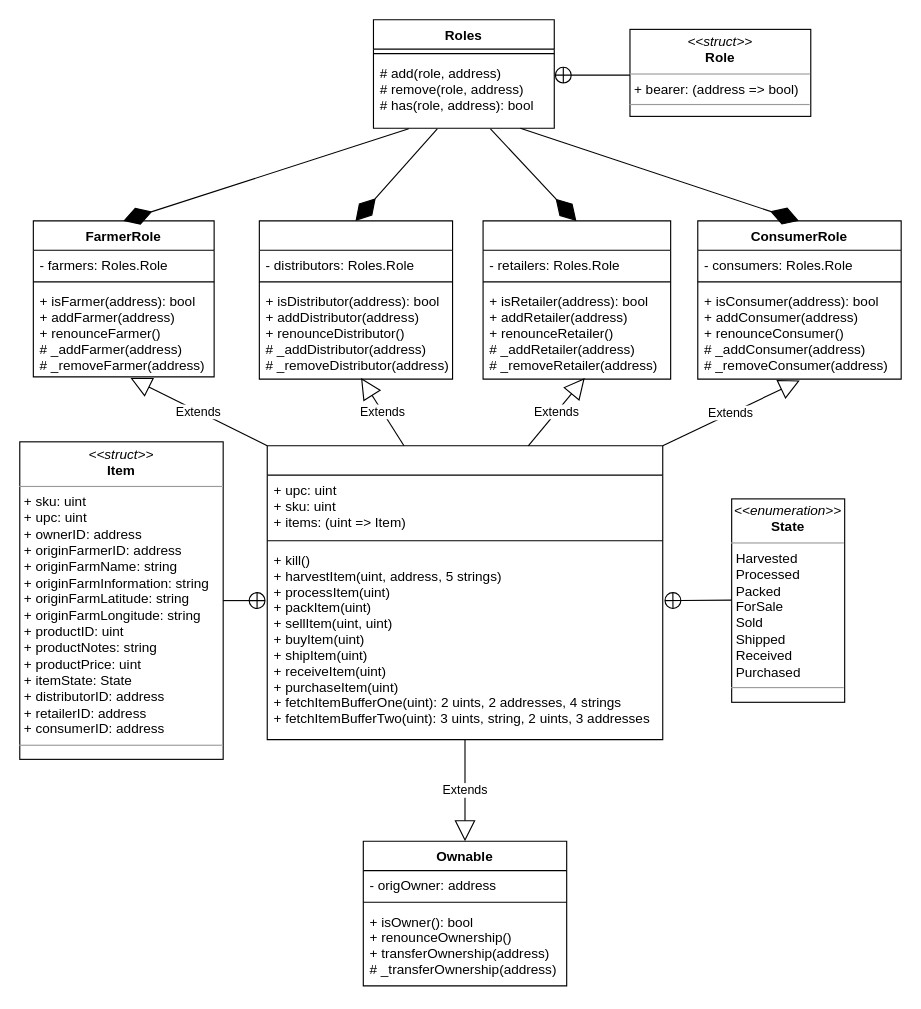
Image size: 921x1009. Some labels were removed from this diagram. The box of each missing label's shape, as (x1, y1, x2, y2) in pixels:
DistributorRole: (258, 220, 453, 379)
RetailerRole: (482, 220, 671, 379)
SupplyChain: (266, 445, 663, 740)
